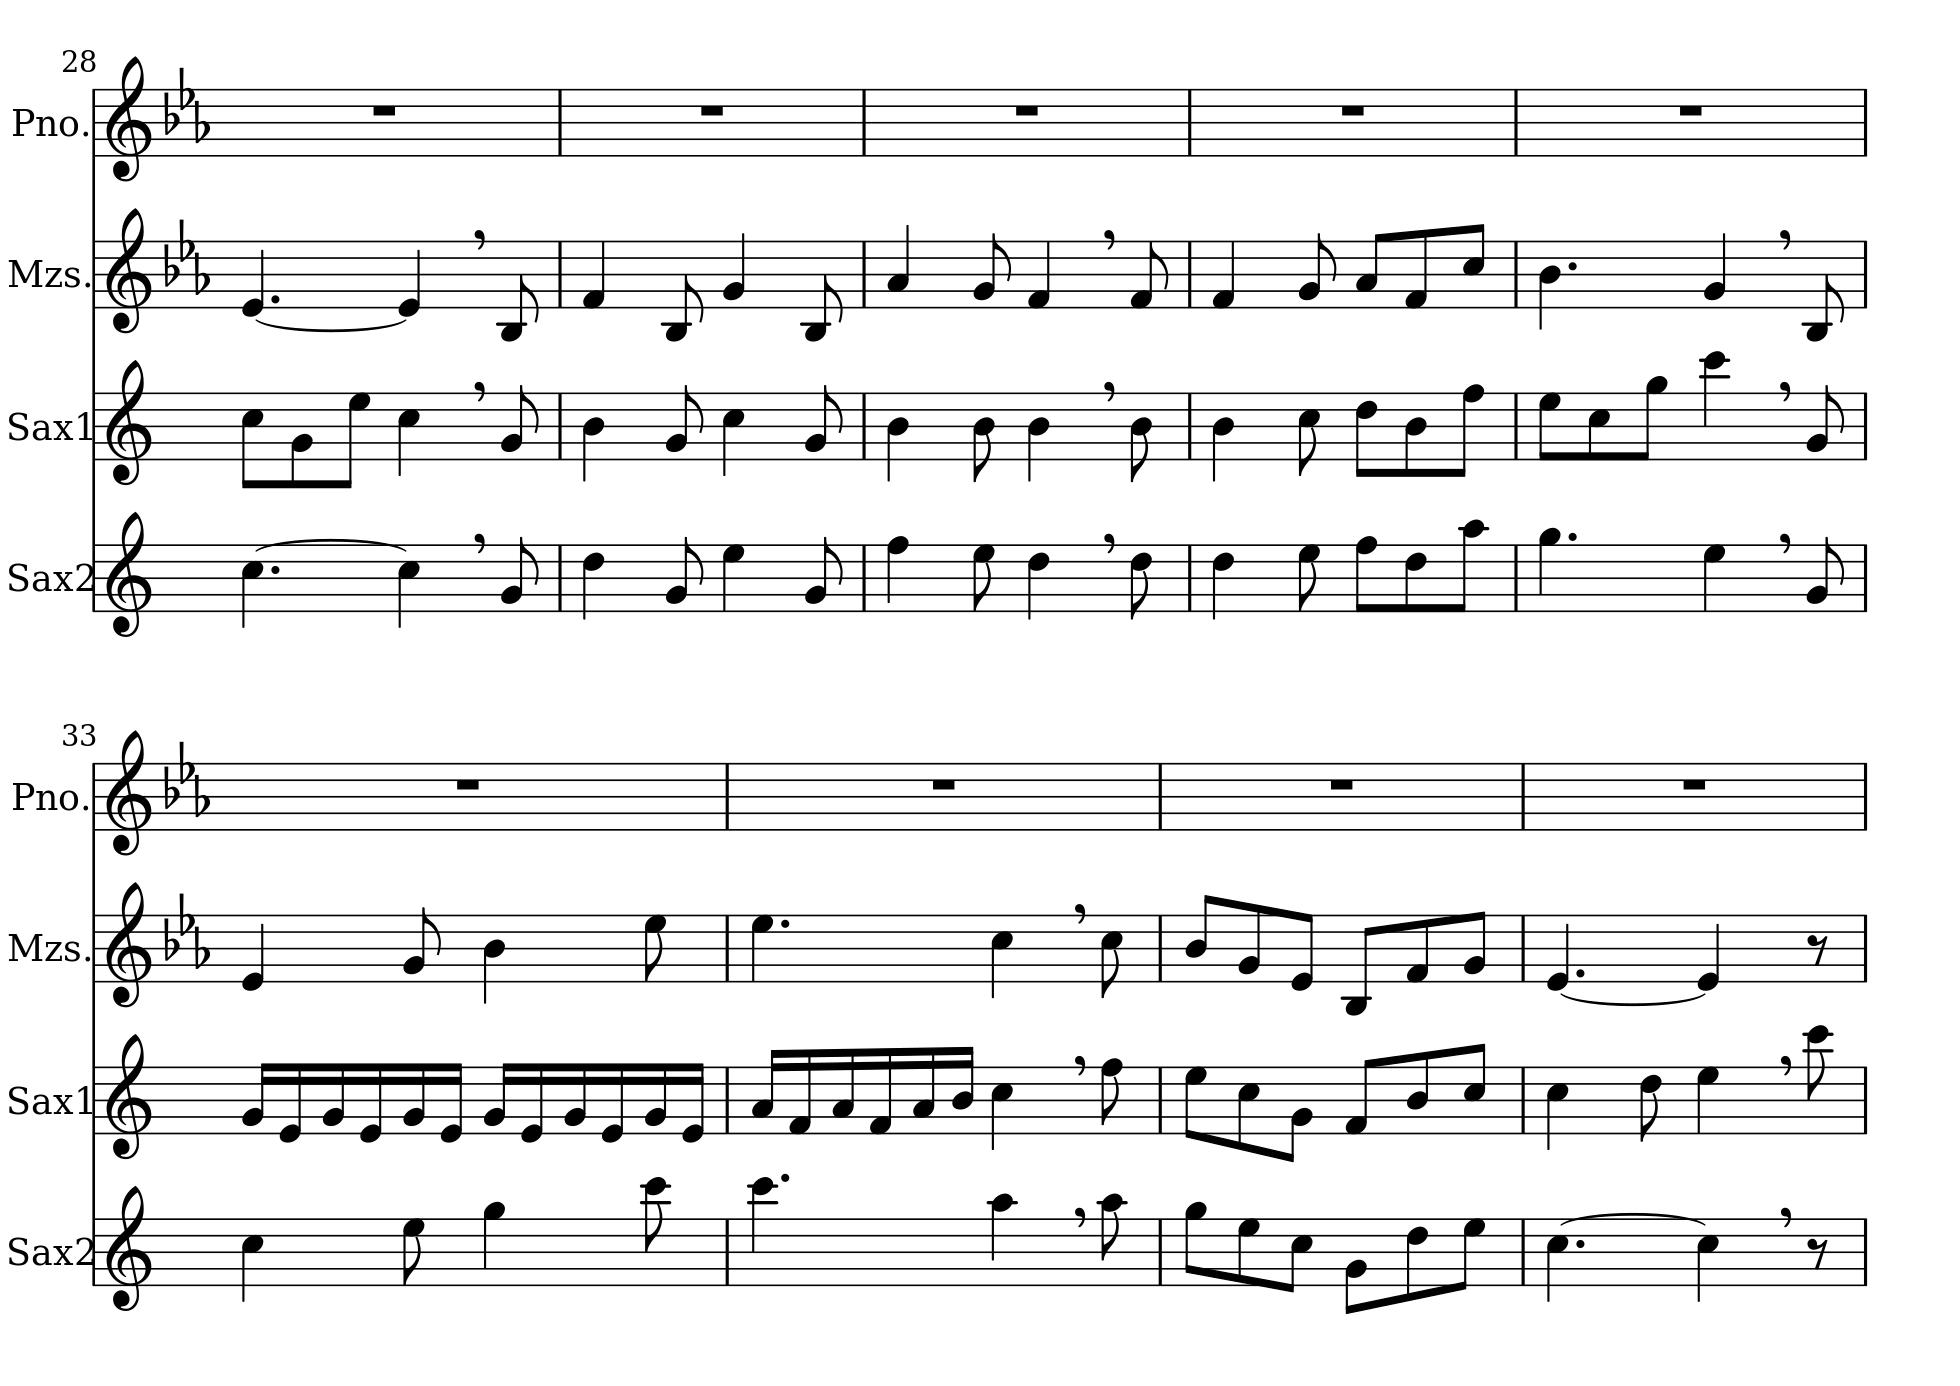16_0: (276, 1060, 304, 1144), (357, 1060, 385, 1144), (678, 1060, 706, 1144), (436, 1060, 463, 1144), (517, 1060, 544, 1144), (598, 1060, 625, 1144)
16_1: (867, 1045, 892, 1137), (787, 1047, 813, 1137)
16_2: (238, 1060, 271, 1135), (481, 1060, 513, 1135), (319, 1060, 346, 1135), (400, 1060, 427, 1135), (642, 1060, 669, 1135), (562, 1060, 588, 1135)
16_3: (748, 1045, 781, 1134), (829, 1045, 856, 1135), (910, 1045, 937, 1135)
16_4: (951, 1044, 975, 1135)
2: (60, 46, 79, 73)
3: (79, 721, 97, 747), (61, 721, 78, 747)
4_0: (396, 238, 423, 319), (1695, 912, 1722, 993), (1545, 912, 1572, 991), (240, 238, 265, 319), (240, 912, 265, 993)
4_1: (580, 238, 607, 310), (1026, 238, 1053, 310), (1210, 238, 1237, 310)
4_10: (987, 1191, 1017, 1288)
4_12: (1698, 349, 1731, 463), (745, 1174, 778, 1288)
4_2: (721, 229, 747, 309), (1704, 229, 1729, 309)
4_3: (886, 223, 910, 309)
4_4: (1536, 238, 1563, 331), (1026, 390, 1051, 483), (1210, 390, 1236, 483), (885, 390, 910, 481), (580, 391, 606, 481), (481, 913, 505, 1005)
4_5: (238, 1215, 265, 1303), (988, 913, 1015, 1000), (1545, 1065, 1572, 1152), (396, 390, 421, 478), (396, 541, 421, 630), (988, 1063, 1014, 1152), (1695, 1216, 1720, 1305), (720, 390, 745, 477), (1545, 1216, 1570, 1303), (240, 543, 264, 630)
4_6: (1209, 541, 1236, 621), (1026, 541, 1051, 621), (580, 541, 604, 619)
4_7: (1701, 541, 1728, 613), (1695, 1063, 1722, 1135), (748, 913, 775, 982), (720, 541, 745, 612)
4_8: (883, 534, 910, 613)
4_9: (1536, 525, 1563, 613), (481, 1198, 505, 1288)
8: (79, 46, 97, 73)
8_-3: (802, 238, 844, 342), (498, 240, 540, 340), (663, 238, 703, 342), (1804, 240, 1845, 342), (1341, 913, 1375, 1015)
8_0: (1290, 910, 1317, 991)
8_1: (1128, 238, 1170, 309), (1344, 1056, 1377, 1135), (1404, 226, 1431, 310), (1404, 912, 1431, 984)
8_10: (1449, 519, 1485, 613), (1098, 1192, 1128, 1288)
8_12: (640, 1174, 672, 1288), (1804, 1023, 1833, 1137)
8_2: (1281, 1063, 1315, 1164), (802, 382, 843, 460), (802, 535, 843, 613), (1297, 231, 1336, 309), (499, 382, 538, 460), (664, 382, 703, 460), (972, 232, 1011, 309), (499, 535, 538, 612), (664, 535, 703, 612), (1806, 535, 1845, 612), (1807, 382, 1845, 460), (402, 904, 439, 982), (1341, 1215, 1369, 1315), (289, 390, 313, 490), (1236, 901, 1263, 984), (1462, 909, 1488, 984)
8_3: (1354, 231, 1386, 310)
8_4: (1183, 892, 1216, 984), (1128, 388, 1155, 484), (970, 390, 996, 483), (1402, 390, 1428, 478), (1405, 1050, 1431, 1135)
8_5: (240, 390, 265, 490), (1282, 1216, 1314, 1294), (1461, 220, 1488, 310), (1462, 1041, 1488, 1135), (1098, 912, 1125, 1000), (1236, 1063, 1261, 1153), (1296, 390, 1321, 477), (1585, 390, 1612, 462)
8_6: (1353, 388, 1380, 480), (1404, 1215, 1429, 1303), (1128, 541, 1155, 621), (1638, 1063, 1663, 1143), (1404, 541, 1428, 615)
8_7: (334, 390, 370, 490), (1453, 1216, 1486, 1291), (1183, 1063, 1209, 1143), (1536, 390, 1563, 462), (970, 541, 996, 613), (1236, 1216, 1261, 1288), (1296, 543, 1321, 613), (400, 1216, 426, 1287), (642, 913, 667, 982)
8_8: (1449, 381, 1486, 478), (1098, 1056, 1125, 1135), (1353, 534, 1378, 613)
8_9: (1635, 373, 1668, 463), (1182, 1200, 1209, 1288)
E_F: (163, 64, 211, 144), (163, 216, 210, 295), (163, 738, 208, 817), (163, 889, 208, 969)
Gclef: (103, 1032, 154, 1161), (103, 1183, 154, 1312), (103, 205, 153, 334), (103, 729, 153, 856), (103, 880, 153, 1008), (103, 54, 151, 183), (105, 358, 153, 487), (105, 510, 153, 637)
Pno: (10, 105, 82, 142), (10, 778, 81, 816)
Rests1: (451, 774, 484, 793), (928, 774, 958, 793), (369, 100, 400, 118), (1675, 100, 1707, 118), (697, 100, 727, 118), (1012, 100, 1042, 118), (1338, 100, 1368, 118), (1326, 775, 1357, 792), (1680, 775, 1710, 792)
Rests8: (1806, 1234, 1830, 1270), (1806, 931, 1830, 966), (1074, 1206, 1087, 1230)
Sax: (3, 406, 76, 450), (3, 1080, 76, 1123), (4, 556, 75, 598), (4, 1231, 75, 1273)
Single_barline: (1182, 240, 1200, 307), (550, 544, 568, 610), (855, 544, 873, 610), (1507, 241, 1525, 306), (550, 393, 568, 457), (718, 915, 736, 979), (718, 762, 735, 829), (1857, 88, 1873, 154), (1182, 391, 1198, 457), (1509, 391, 1525, 457), (1182, 544, 1198, 610), (1857, 544, 1873, 610), (1152, 763, 1168, 829), (1857, 763, 1873, 829), (1857, 913, 1873, 979), (718, 1066, 735, 1132), (1152, 1066, 1168, 1132), (1516, 1066, 1533, 1132), (1152, 1218, 1168, 1284), (1857, 1218, 1873, 1284), (552, 240, 568, 304), (855, 393, 871, 457), (1857, 393, 1873, 457), (87, 88, 102, 157), (88, 391, 103, 460), (88, 1216, 103, 1285), (88, 544, 103, 612), (88, 1066, 103, 1134), (552, 88, 567, 154), (856, 88, 871, 154), (1509, 88, 1524, 154), (1515, 763, 1530, 829), (1516, 915, 1531, 981), (1857, 1066, 1872, 1132), (1182, 90, 1197, 154), (1509, 544, 1524, 609), (1516, 1219, 1531, 1284), (856, 241, 871, 304), (720, 1219, 735, 1282), (87, 240, 100, 309), (87, 913, 100, 982), (1153, 913, 1167, 979), (1858, 241, 1872, 306), (88, 762, 100, 829)
Slur: (256, 318, 406, 336), (1561, 1210, 1710, 1227), (1561, 991, 1707, 1008)
dot: (777, 1170, 792, 1186), (1566, 258, 1581, 273), (1573, 964, 1587, 979), (268, 291, 282, 304), (1566, 529, 1579, 543), (268, 562, 280, 577), (778, 916, 790, 931), (1575, 1236, 1587, 1249)
